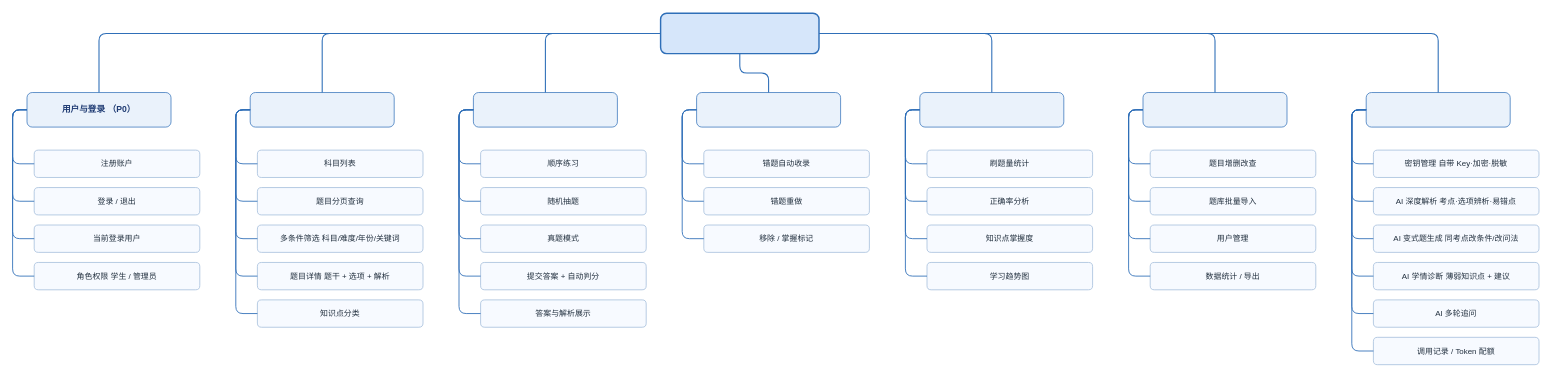
The diagram is 1552 pixels wide and 377 high, and some of its shapes have lost their labels. The box of each missing label's shape, as (x1, y1, x2, y2) in pixels:
AI 助教 （P1 加分项）: (1365, 92, 1510, 127)
做题与判卷 （P1）: (473, 92, 617, 127)
学习统计 （P2）: (919, 92, 1064, 127)
管理后台 （P1）: (1142, 92, 1287, 127)
统考408刷题软件: (660, 12, 819, 54)
错题本 （P1）: (696, 92, 841, 127)
题库查询 （P0）: (249, 92, 394, 127)
